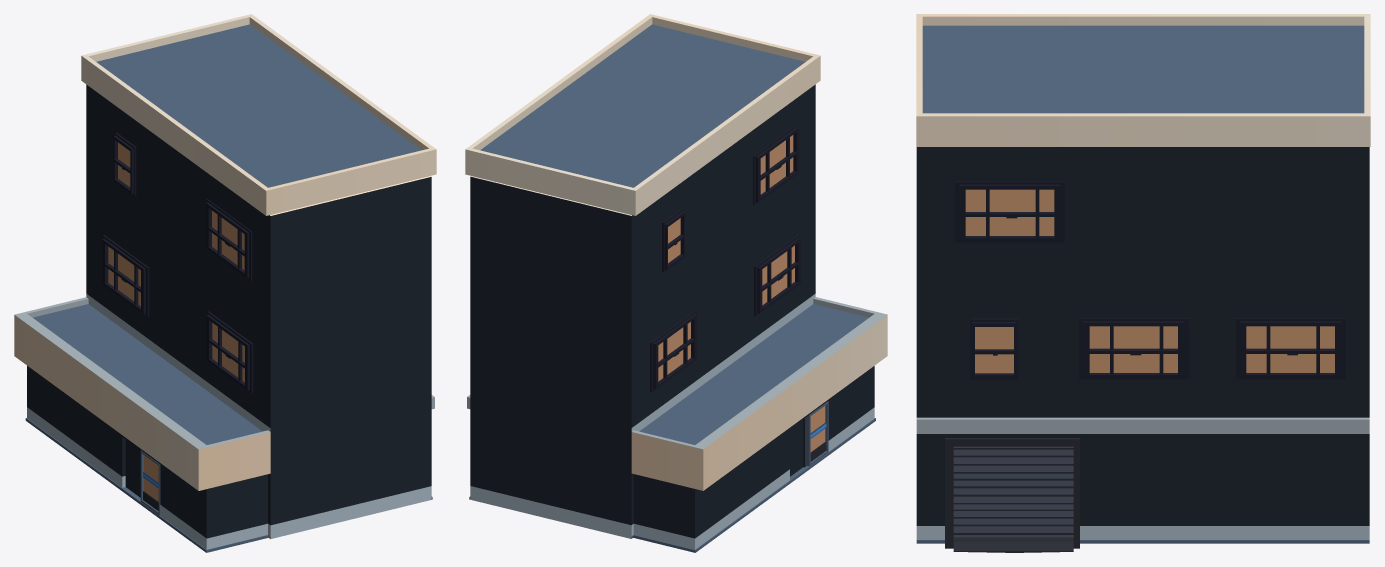
File: Building_Wide01.fbx
The picture shows the model from 3 angles, left to right: view 1: azimuth 30°, elevation 25°; view 2: azimuth 150°, elevation 25°; view 3: azimuth 270°, elevation 25°; orthographic projection. The views are drawn at different scales.
Parts seen in each view (by area): view 1: Cube.394, Cube.389; view 2: Cube.394, Cube.389; view 3: Cube.394.
Part boxes in pixels (x1=…): Cube.394: x1=14, y1=14, x2=436, y2=552; Cube.389: x1=140, y1=450, x2=160, y2=515; Cube.394: x1=465, y1=14, x2=887, y2=552; Cube.389: x1=807, y1=401, x2=828, y2=466; Cube.394: x1=916, y1=14, x2=1370, y2=552.
Size of the model in its own units: 700 by 984 by 932.
